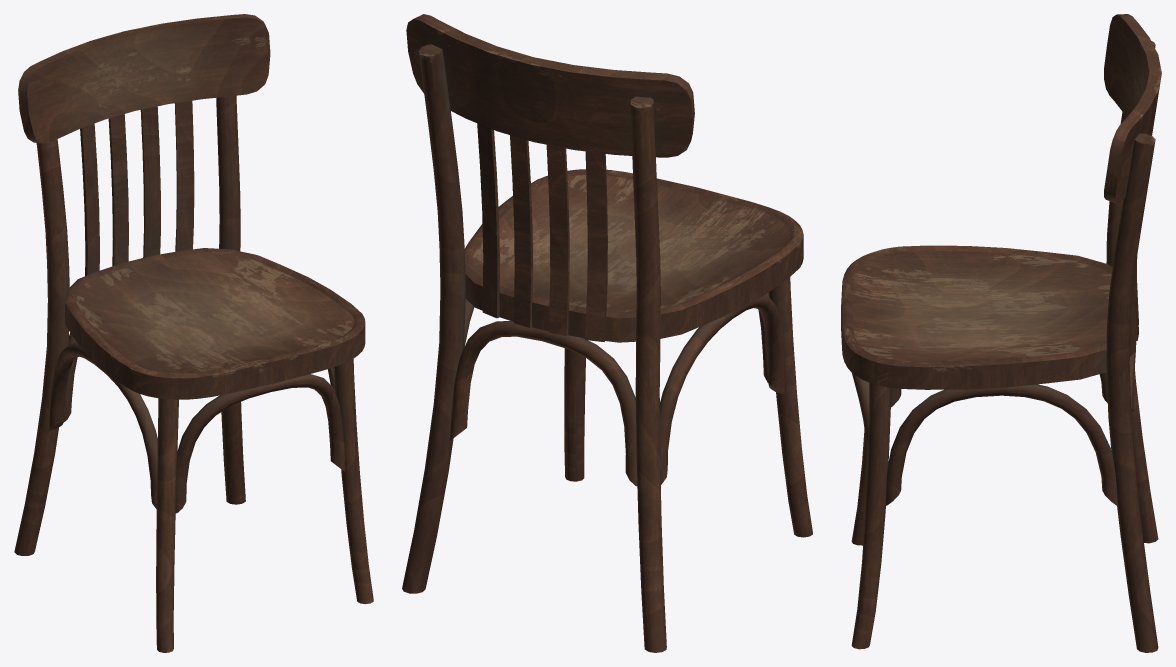
File: soviet_chair.fbx
3 renders of one model, left to right at view 1: azimuth 30°, elevation 25°; view 2: azimuth 150°, elevation 25°; view 3: azimuth 270°, elevation 25°, orthographic. The views are drawn at different scales.
Visible parts, largest first — view 1: soviet_chair; view 2: soviet_chair; view 3: soviet_chair.
Part boxes in pixels (<box>): soviet_chair: <box>14,14,373,652</box>; soviet_chair: <box>402,14,812,652</box>; soviet_chair: <box>841,14,1161,652</box>.
Bounding box in the file's own units: 46.24 × 87.41 × 48.57.
1 material, 1 textured.
